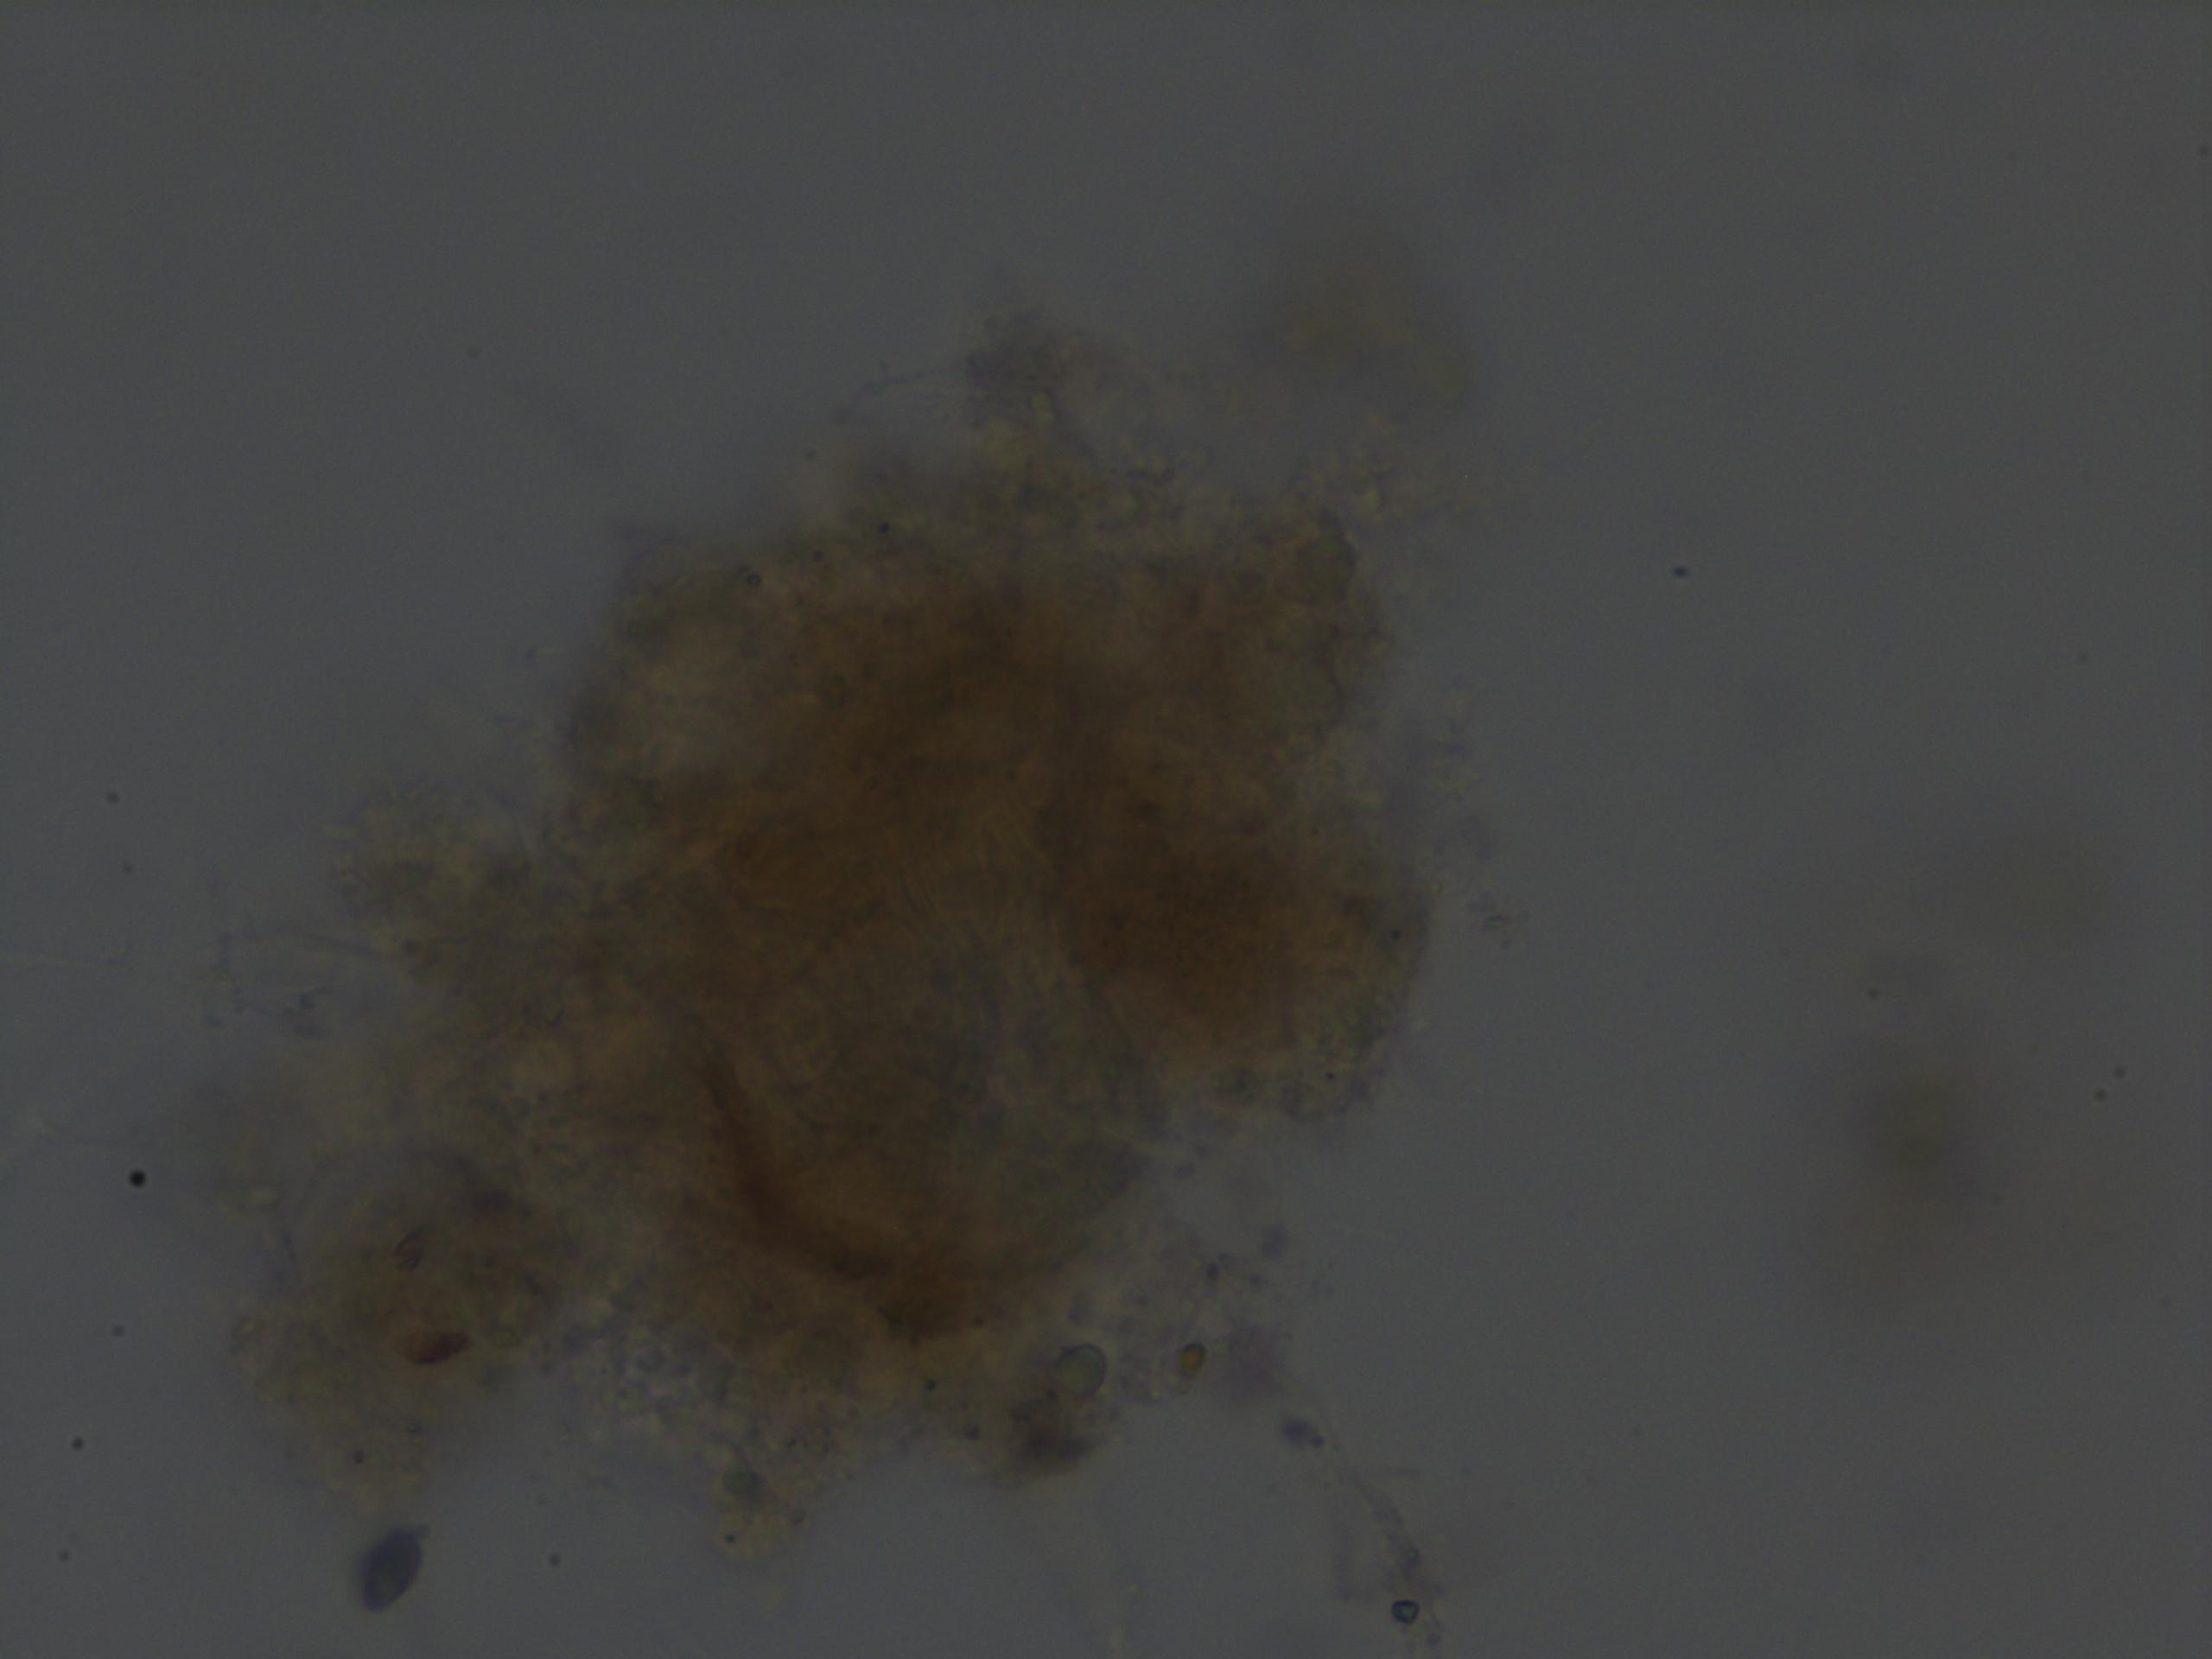filament: (1186, 1312, 1470, 1654)
spherical_floc: (254, 357, 1454, 1486)
